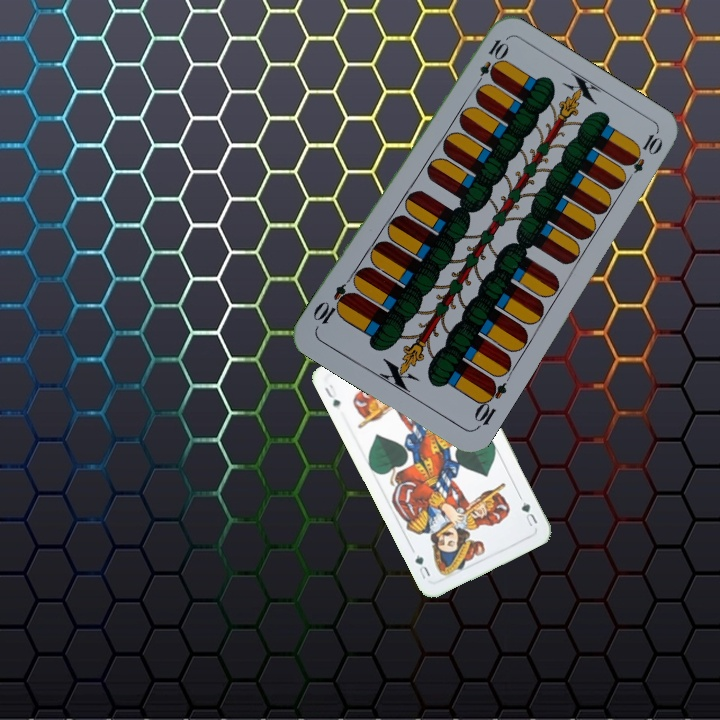E10: (469, 375, 509, 432), (471, 35, 510, 91)
GU: (517, 498, 540, 529), (321, 380, 343, 410)
